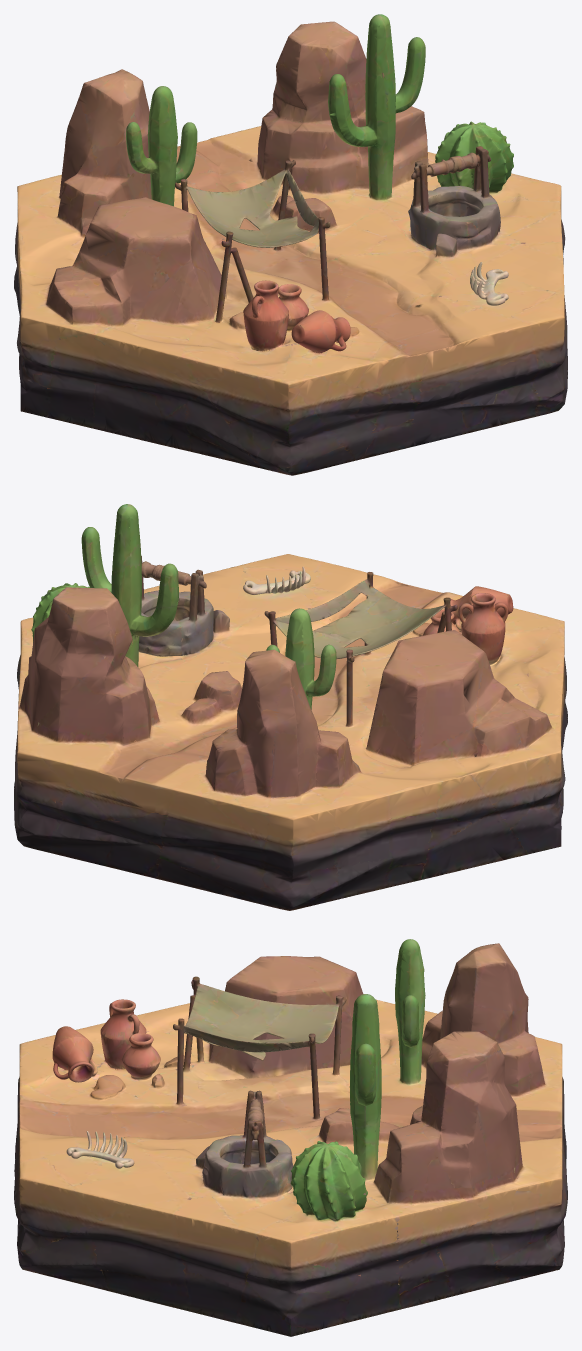
The model's file is sandtile_lv3.glb.
The picture shows the model from 3 angles, top to bottom: view 1: azimuth 30°, elevation 25°; view 2: azimuth 150°, elevation 25°; view 3: azimuth 270°, elevation 25°; orthographic projection.
Size of the model in its own units: 1.9 by 0.9422 by 1.69.
1 material, 1 textured.
